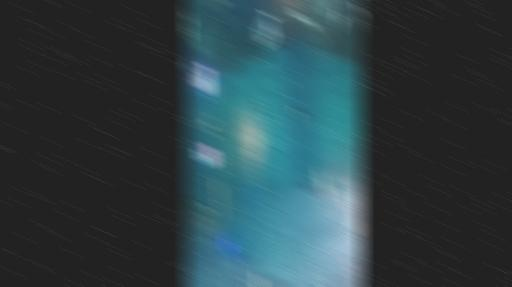Fish: (255, 12, 276, 45), (291, 10, 314, 28), (316, 171, 329, 198), (346, 213, 359, 232), (329, 160, 340, 181), (324, 189, 335, 210), (306, 261, 315, 286), (353, 5, 362, 30), (288, 222, 299, 239), (279, 231, 290, 248), (344, 259, 355, 274), (292, 104, 301, 119), (273, 108, 286, 118), (335, 15, 341, 29), (262, 210, 271, 219), (322, 199, 328, 212), (299, 184, 318, 188), (268, 220, 274, 229), (281, 123, 287, 132), (186, 64, 192, 73), (345, 259, 351, 268), (271, 207, 278, 214), (259, 213, 266, 220), (354, 278, 360, 286), (266, 211, 275, 216), (268, 104, 277, 109), (251, 104, 262, 108), (258, 107, 264, 114), (256, 119, 262, 124), (258, 100, 265, 103), (265, 89, 271, 92), (267, 108, 269, 115)
